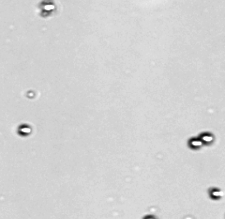Living Cell: (38, 1, 55, 13), (17, 124, 33, 136), (199, 131, 214, 143), (189, 137, 202, 150), (210, 187, 221, 200)
